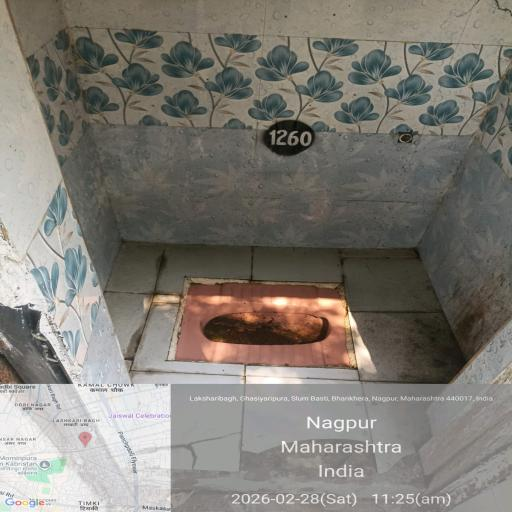clean_floor: (17, 20, 512, 243)
damage: (80, 382, 394, 504)
dirty_indian: (170, 251, 380, 392)
